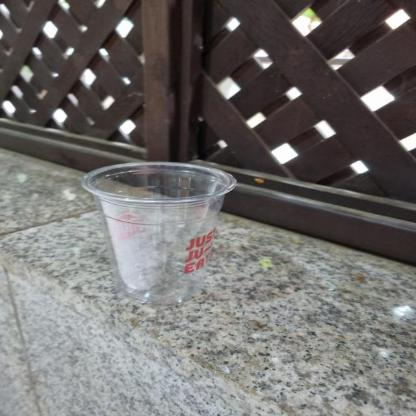Plastic Cup: (83, 158, 239, 298)
